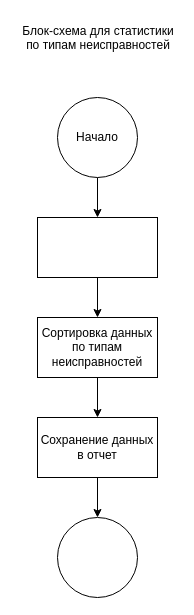
The diagram is 194 pixels wide and 615 high, and some of its shapes have lost their labels. Each missing label, with the centre of its shape:
Конец: point (97, 557)
Получение данных о всех заявках: point (97, 247)
